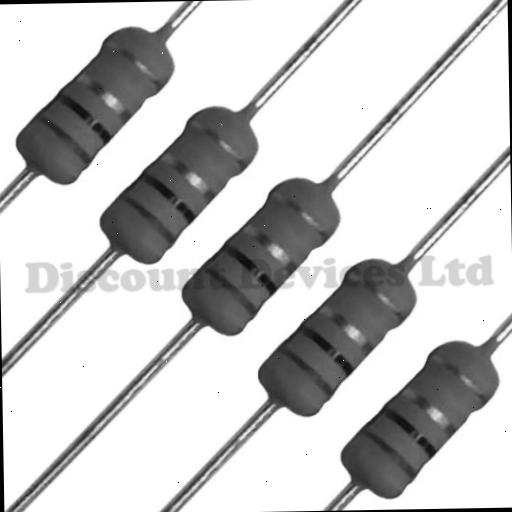RESISTOR: (60, 83, 311, 291), (212, 230, 471, 414), (151, 164, 370, 370), (0, 42, 214, 189), (316, 347, 512, 507)
